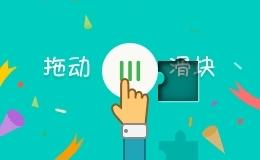target: (136, 41, 178, 81)
